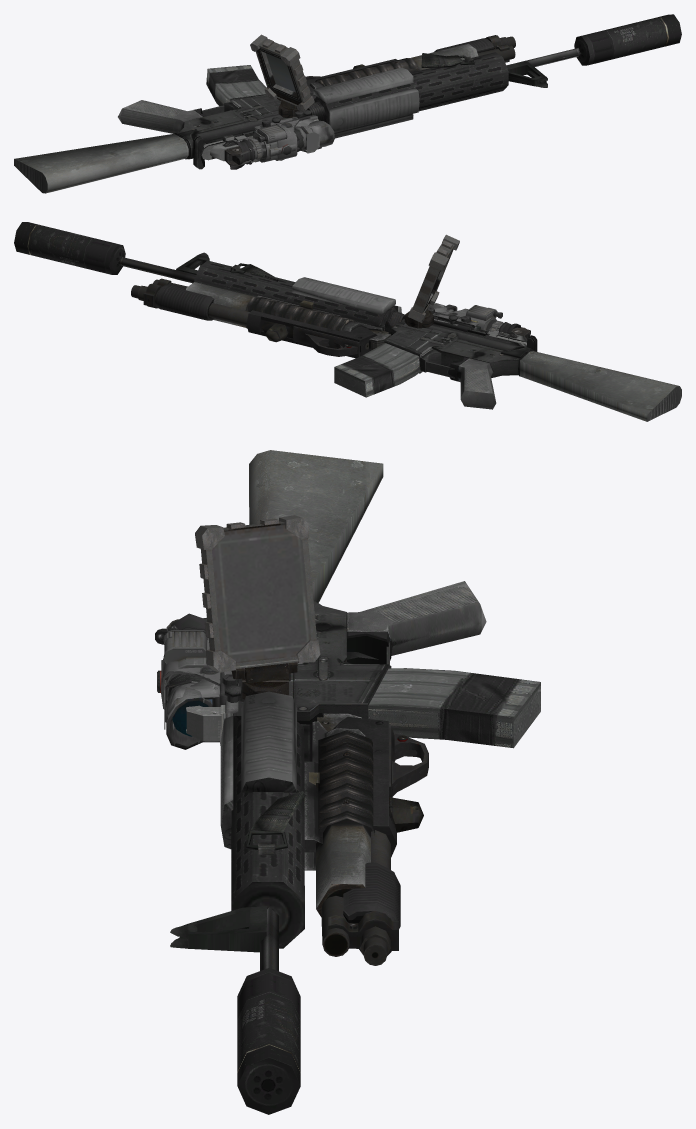
The model's file is weapon_m16_red_urban_LOD0.obj.
3 views of the same model, one above another, from view 1: azimuth 30°, elevation 25°; view 2: azimuth 150°, elevation 25°; view 3: azimuth 270°, elevation 25° (orthographic). The views are drawn at different scales.
Parts seen in each view (by area): view 1: mtl_weapon_m16_red_urban, mtl_weapon_suppressor_b, mtl_weapon_motion_tracker_red_urban, mtl_weapon_m16_iron_sight, mtl_weapon_thermal_sight_2_red_urban, mtl_weapon_m203, mtl_weapon_shotgun_masterkey, mtl_weapon_acog_2_red_urban, mtl_weapon_eotech_2_red_urban, mtl_weapon_red_dot_sight_red_urban; view 2: mtl_weapon_m16_red_urban, mtl_weapon_shotgun_masterkey, mtl_weapon_suppressor_b, mtl_weapon_m203, mtl_weapon_motion_tracker_red_urban, mtl_weapon_thermal_sight_2_red_urban, mtl_weapon_m16_iron_sight, mtl_weapon_eotech_2_red_urban, mtl_weapon_m4_foregrip; view 3: mtl_weapon_m16_red_urban, mtl_weapon_motion_tracker_red_urban, mtl_weapon_m203, mtl_weapon_shotgun_masterkey, mtl_weapon_suppressor_b, mtl_weapon_m16_iron_sight, mtl_weapon_thermal_sight_2_red_urban, mtl_weapon_acog_2_red_urban, mtl_weapon_red_dot_sight_red_urban.
Boxes of the visible parts, bbox=[...] form: mtl_weapon_m16_red_urban: bbox=[14, 48, 580, 193]; mtl_weapon_suppressor_b: bbox=[574, 14, 681, 65]; mtl_weapon_motion_tracker_red_urban: bbox=[250, 34, 314, 117]; mtl_weapon_m16_iron_sight: bbox=[201, 60, 547, 165]; mtl_weapon_thermal_sight_2_red_urban: bbox=[230, 121, 319, 169]; mtl_weapon_m203: bbox=[309, 43, 478, 98]; mtl_weapon_shotgun_masterkey: bbox=[305, 35, 515, 95]; mtl_weapon_acog_2_red_urban: bbox=[248, 109, 334, 160]; mtl_weapon_eotech_2_red_urban: bbox=[254, 117, 299, 160]; mtl_weapon_red_dot_sight_red_urban: bbox=[260, 111, 322, 149]; mtl_weapon_m16_red_urban: bbox=[118, 256, 681, 421]; mtl_weapon_shotgun_masterkey: bbox=[131, 278, 377, 358]; mtl_weapon_suppressor_b: bbox=[14, 222, 125, 274]; mtl_weapon_m203: bbox=[186, 282, 390, 351]; mtl_weapon_motion_tracker_red_urban: bbox=[404, 234, 459, 328]; mtl_weapon_thermal_sight_2_red_urban: bbox=[445, 304, 521, 335]; mtl_weapon_m16_iron_sight: bbox=[176, 252, 530, 346]; mtl_weapon_eotech_2_red_urban: bbox=[432, 308, 478, 331]; mtl_weapon_m4_foregrip: bbox=[265, 323, 287, 342]; mtl_weapon_m16_red_urban: bbox=[220, 450, 540, 971]; mtl_weapon_motion_tracker_red_urban: bbox=[195, 515, 320, 699]; mtl_weapon_m203: bbox=[301, 713, 374, 917]; mtl_weapon_shotgun_masterkey: bbox=[304, 716, 428, 965]; mtl_weapon_suppressor_b: bbox=[237, 967, 300, 1114]; mtl_weapon_m16_iron_sight: bbox=[155, 617, 267, 952]; mtl_weapon_thermal_sight_2_red_urban: bbox=[161, 613, 209, 729]; mtl_weapon_acog_2_red_urban: bbox=[157, 658, 241, 749]; mtl_weapon_red_dot_sight_red_urban: bbox=[170, 672, 238, 745].
Size of the model in its own units: 105 by 17.49 by 27.64.
